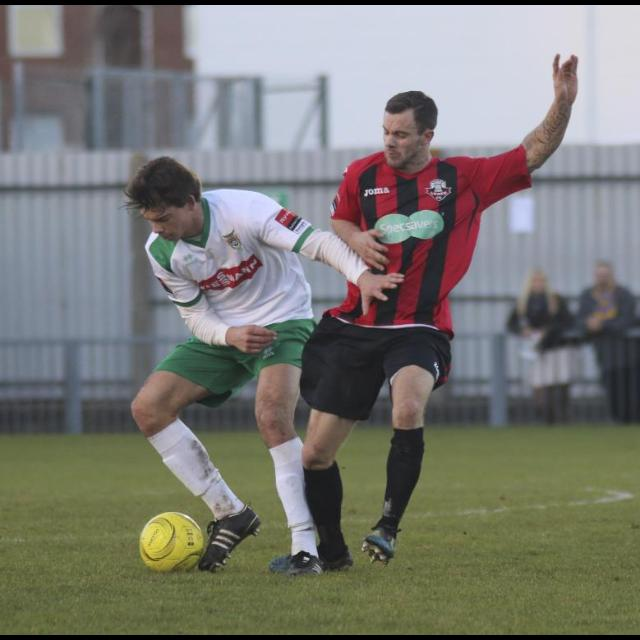Football: (140, 512, 200, 574)
